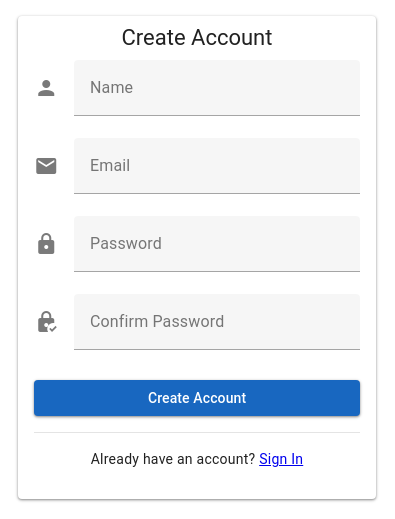
Test: RegisterView › shows error when password is shorter than 6 characters
In the field labelled "Name": (217, 88) [74,60,360,116], type "John"
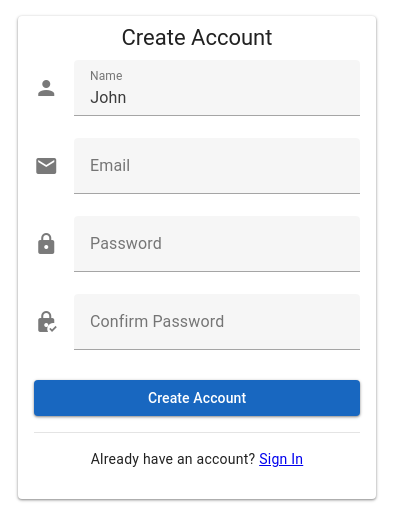
In the field labelled "Email": (217, 166) [74,138,360,194], type "john@example.com"
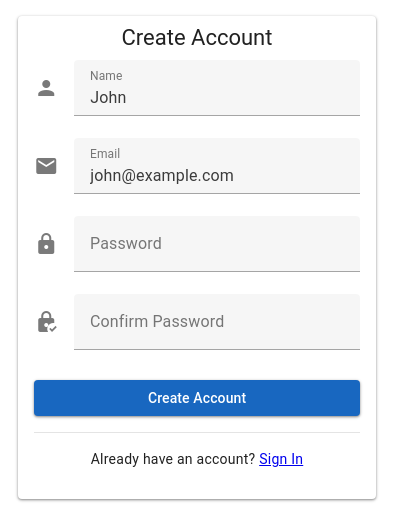
In the password field labelled "Password": (217, 244) [74,216,360,272], type "abc"
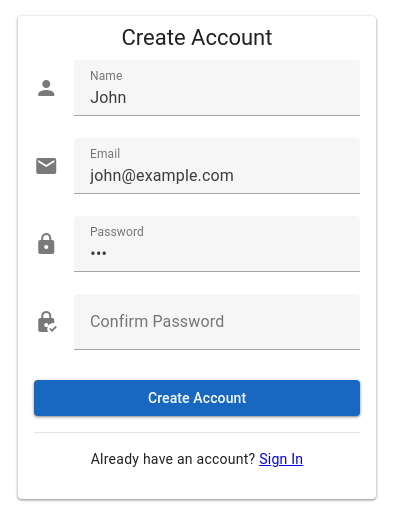
In the password field labelled "Confirm Password": (217, 322) [74,294,360,350], type "abc"
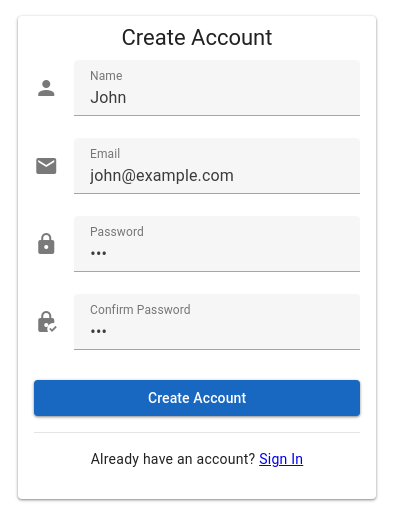
Submit the form, box [34,60,360,416]
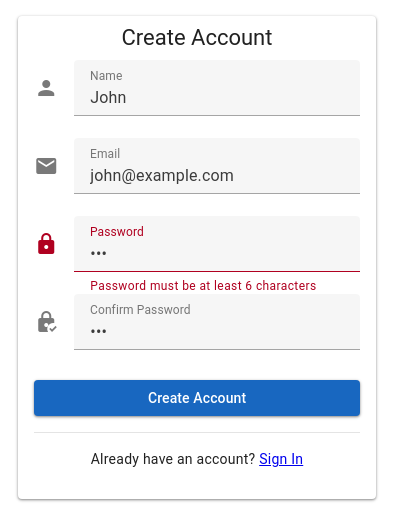
Check: the text "Password must be at least 6 characters" is shown, box [90,280,344,292]
